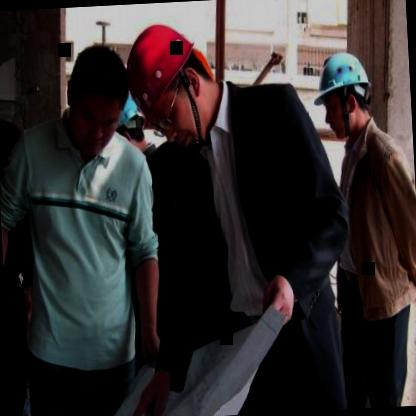head: (61, 43, 132, 153)
helmet: (128, 22, 222, 152), (315, 41, 377, 137)
